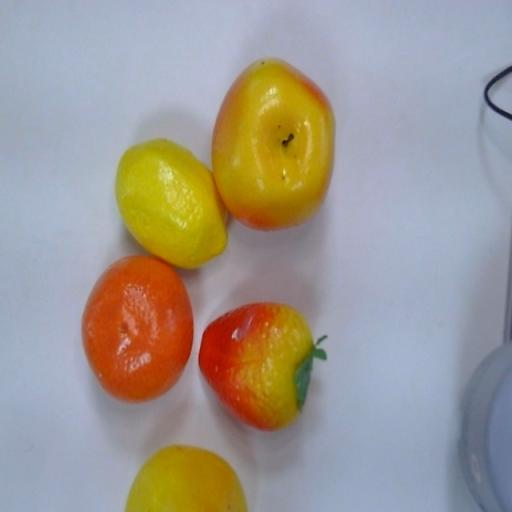Ripe: (207, 56, 342, 232), (77, 256, 195, 395), (199, 301, 324, 428), (116, 134, 234, 264), (124, 435, 282, 512)
